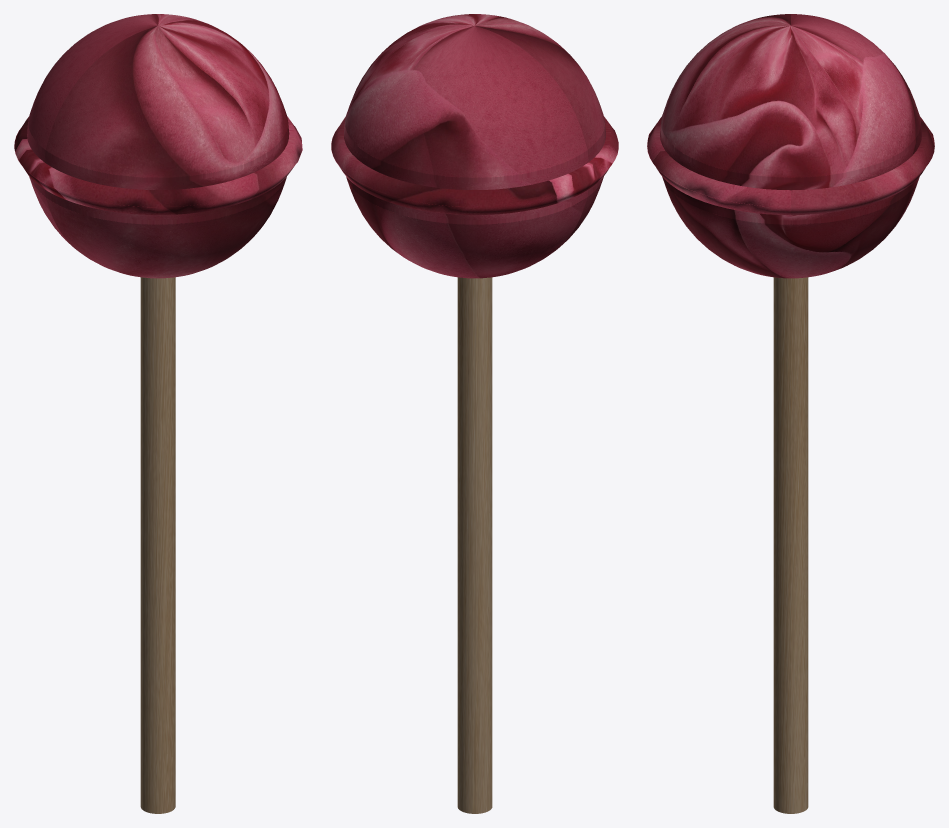
File: Acadea.fbx
3 views of the same model, side by side, from view 1: azimuth 30°, elevation 25°; view 2: azimuth 150°, elevation 25°; view 3: azimuth 270°, elevation 25° (orthographic).
Visible parts, largest first — view 1: Sphere, Cylinder; view 2: Sphere, Cylinder; view 3: Sphere, Cylinder.
Part boxes in pixels (<box>): Sphere: <box>14,14,302,278</box>; Cylinder: <box>140,277,175,813</box>; Sphere: <box>331,14,618,278</box>; Cylinder: <box>457,277,492,813</box>; Sphere: <box>647,14,934,278</box>; Cylinder: <box>773,277,808,813</box>.
Bounding box in the file's own units: 216 × 646 × 216.
